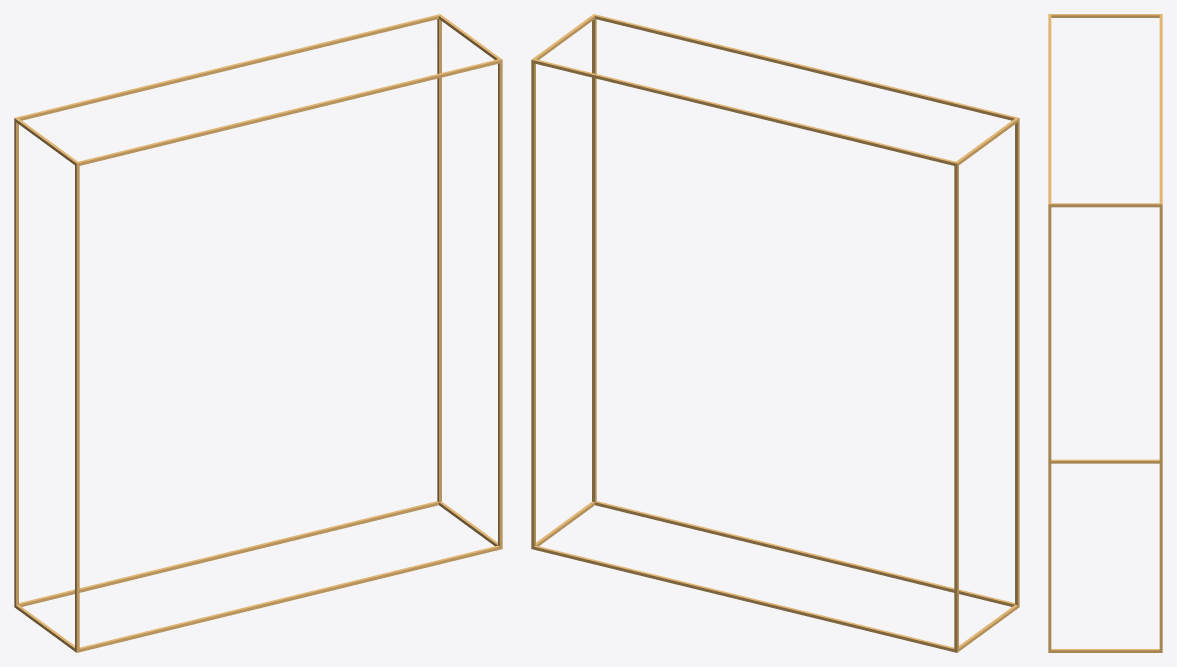
File: wingsuits.glb
3 views of the same model, side by side, from view 1: azimuth 30°, elevation 25°; view 2: azimuth 150°, elevation 25°; view 3: azimuth 270°, elevation 25° (orthographic). The views are drawn at different scales.
Visible parts, largest first — view 1: box_0; view 2: box_0; view 3: box_0.
Boxes of the visible parts, x1,y1,x2,y2 form: box_0: [14, 14, 502, 652]; box_0: [531, 14, 1019, 652]; box_0: [1048, 14, 1162, 652].
Size of the model in its own units: 1.47 by 1.61 by 0.3734.
